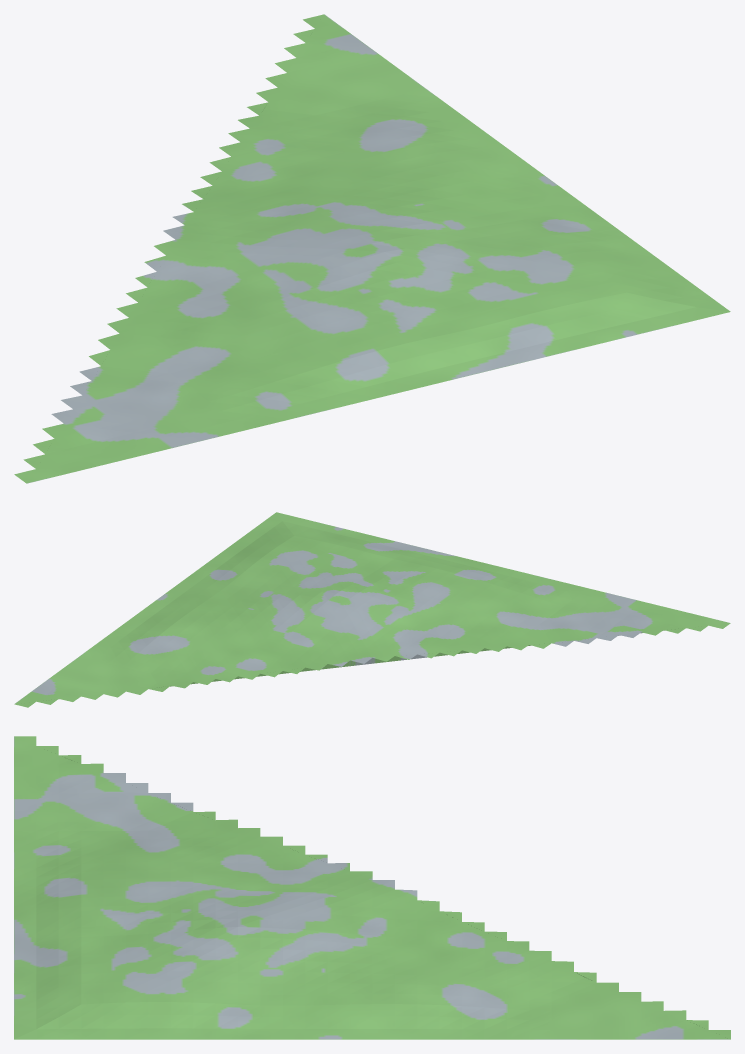
Rendered from Grass_RockyGround_01_NE.obj.
The picture shows the model from 3 angles, top to bottom: view 1: azimuth 30°, elevation 25°; view 2: azimuth 150°, elevation 25°; view 3: azimuth 270°, elevation 25°; orthographic projection. The views are drawn at different scales.
Bounding box in the file's own units: 10 × 0.2768 × 10.
1 material, 1 textured.
